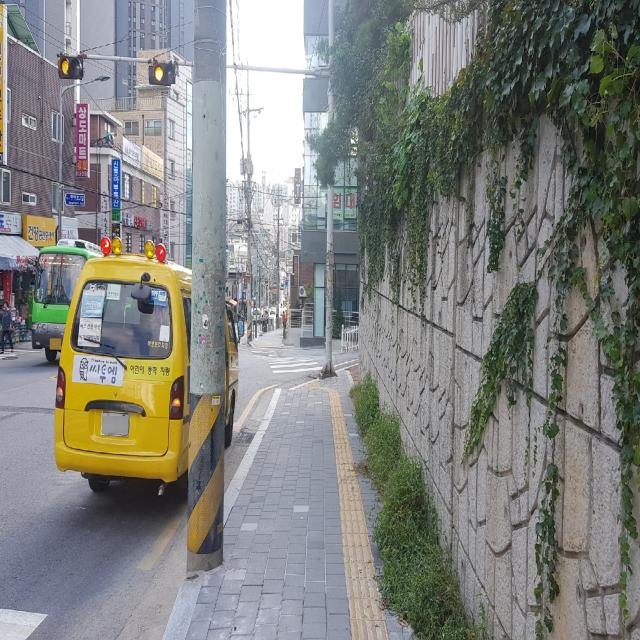횡단보도: (249, 347, 323, 374)
